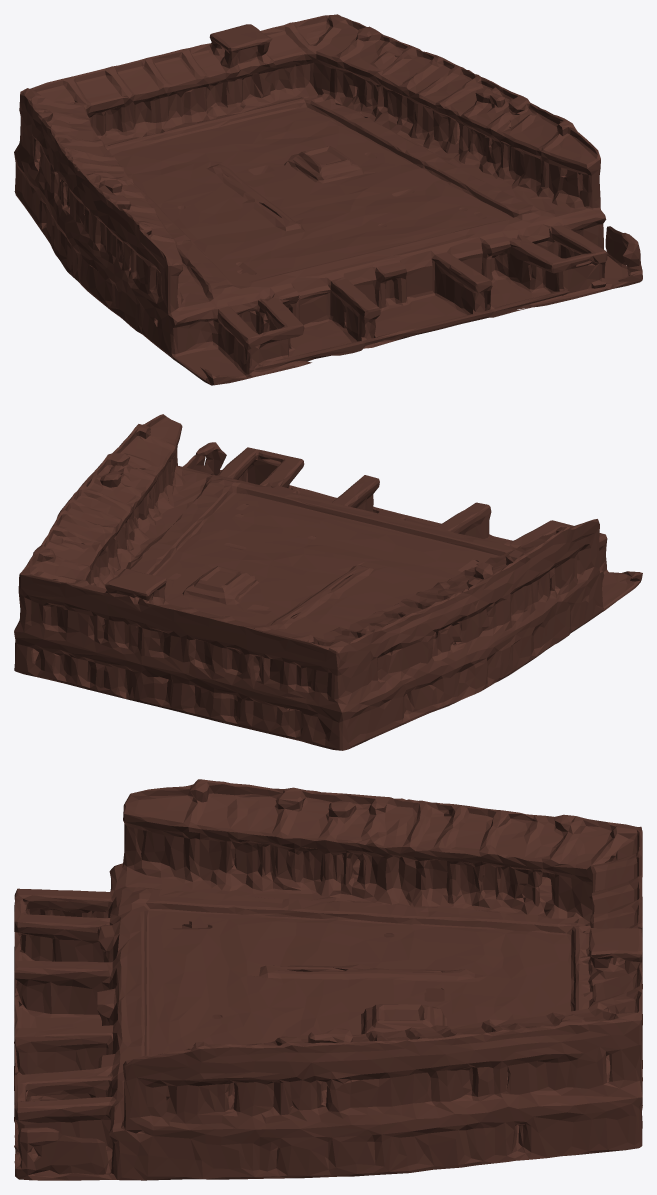
Rendered from Assembly Areas.glb.
3 views of the same model, one above another, from view 1: azimuth 30°, elevation 25°; view 2: azimuth 150°, elevation 25°; view 3: azimuth 270°, elevation 25° (orthographic). The views are drawn at different scales.
Parts seen in each view (by area): view 1: tmpd12ocwvc.ply; view 2: tmpd12ocwvc.ply; view 3: tmpd12ocwvc.ply.
Boxes of the visible parts, left/top/right/bottom form: tmpd12ocwvc.ply: left=14, top=14, right=642, bottom=385; tmpd12ocwvc.ply: left=14, top=414, right=642, bottom=750; tmpd12ocwvc.ply: left=14, top=779, right=642, bottom=1180.
Bounding box in the file's own units: 1.96 × 0.4906 × 1.96.
